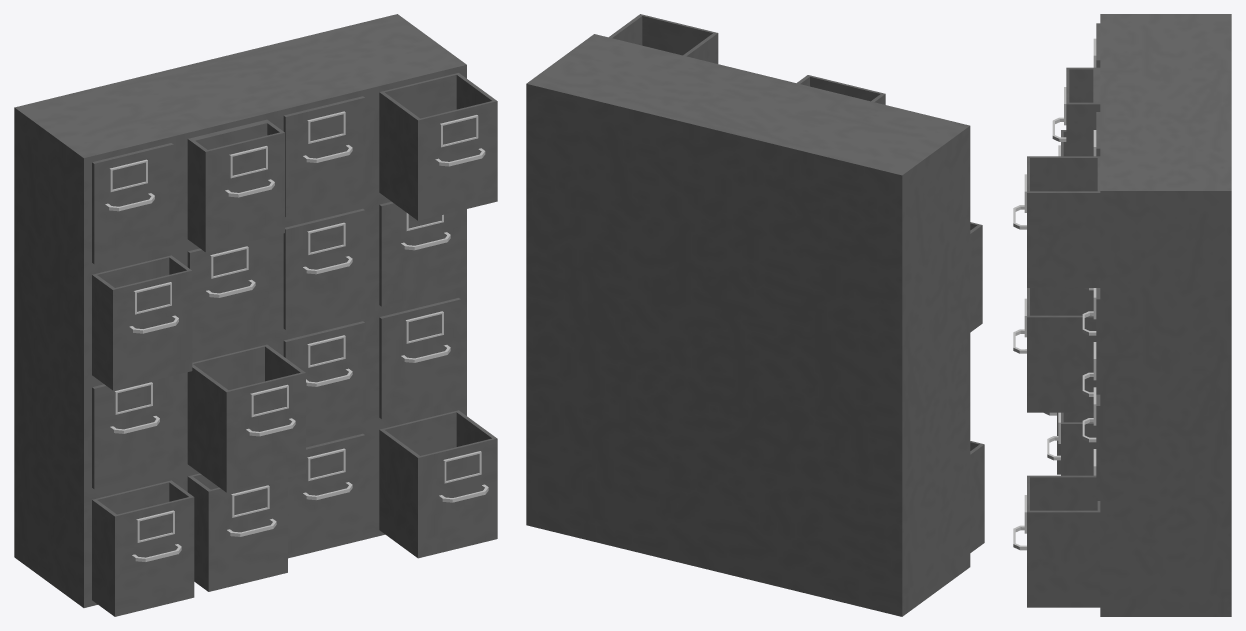
The model's file is IronCaseOpenedBoxes.fbx.
The picture shows the model from 3 angles, left to right: view 1: azimuth 30°, elevation 25°; view 2: azimuth 150°, elevation 25°; view 3: azimuth 270°, elevation 25°; orthographic projection. The views are drawn at different scales.
Parts seen in each view (by area): view 1: Cube.110; view 2: Cube.110; view 3: Cube.110.
Boxes of the visible parts, bbox=[...] form: Cube.110: bbox=[14, 14, 497, 616]; Cube.110: bbox=[526, 14, 984, 616]; Cube.110: bbox=[1013, 14, 1231, 616].
Bounding box in the file's own units: 330 × 370 × 172.
